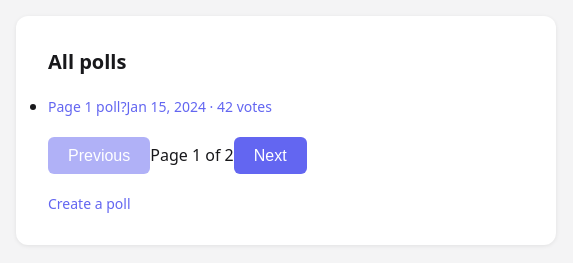
Test: ListPollsView › fetches the previous page when Previous is clicked
Expected: the text "Page 1 poll?" is shown, [48,97,126,116]
Click the button "Next" at (270, 156), box [234,137,307,174]
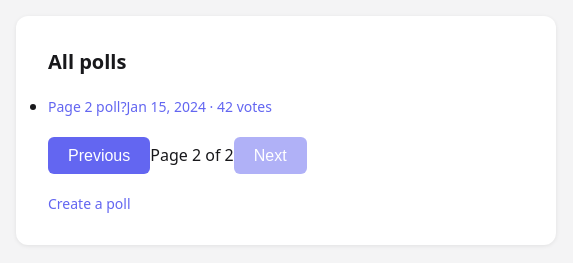
Expected: the text "Page 2 poll?" is shown, [48,97,126,116]
Click the button "Previous" at (99, 156), box [48,137,150,174]
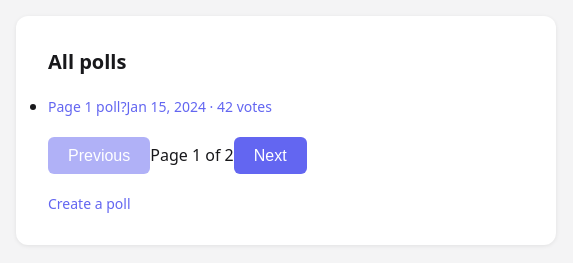
Expected: the text "Page 1 poll?" is shown, [48,97,126,116]
